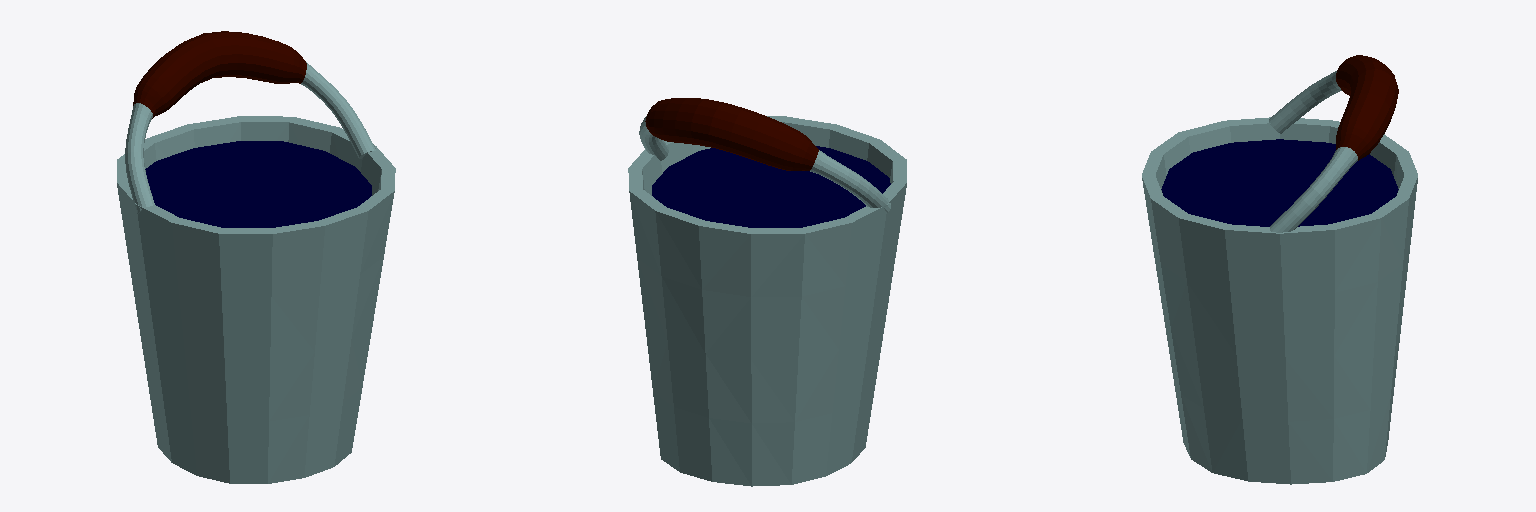
File: bucket-of-water.obj
3 views of the same model, side by side, from view 1: azimuth 30°, elevation 25°; view 2: azimuth 150°, elevation 25°; view 3: azimuth 270°, elevation 25° (orthographic).
Visible parts, largest first — view 1: Bucket.001_Cube.1437; view 2: Bucket.001_Cube.1437; view 3: Bucket.001_Cube.1437.
Part boxes in pixels (x1,y1,x2,y2): Bucket.001_Cube.1437: (117,31,395,483); Bucket.001_Cube.1437: (628,98,906,486); Bucket.001_Cube.1437: (1142,55,1417,484).
Size of the model in its own units: 1.31 by 1.95 by 1.31.